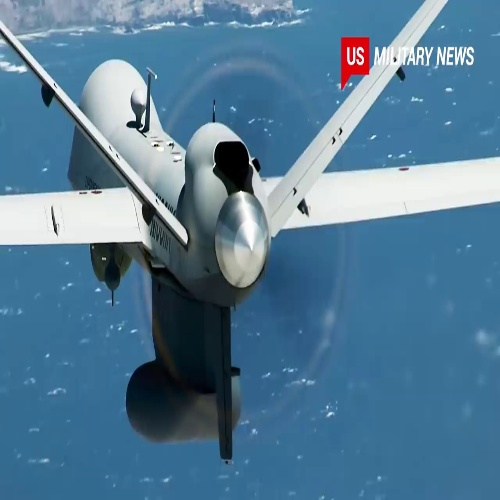uav: (1, 15, 498, 454)
